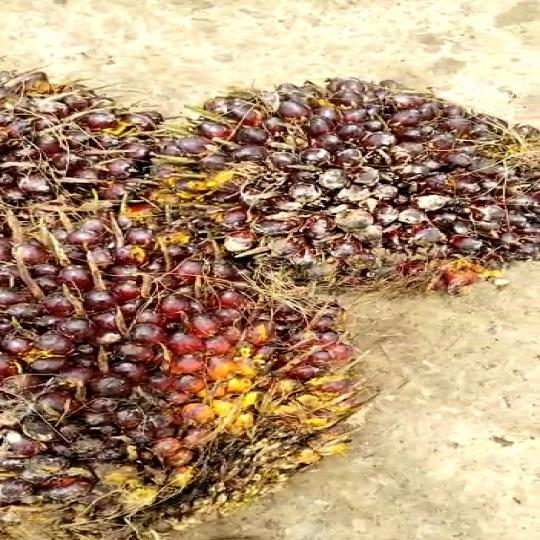kurang masak: (7, 208, 367, 536), (160, 69, 540, 295)
